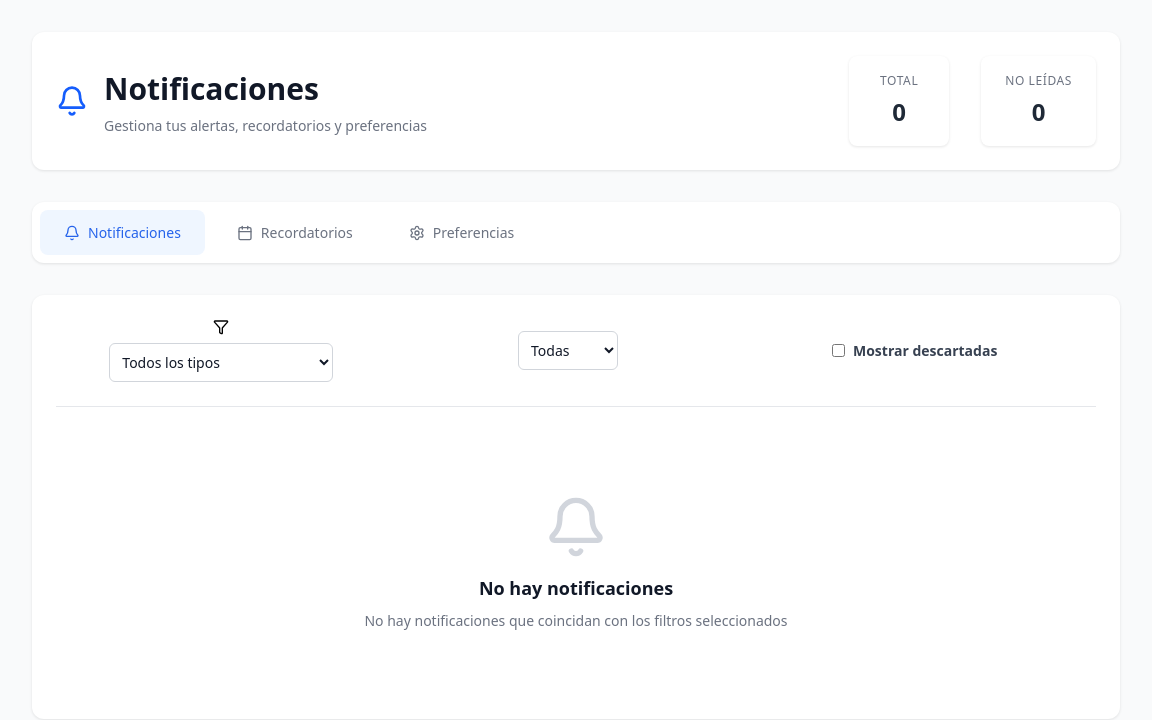
Test: Notifications Page › debe mostrar recordatorios pendientes y enviados
This screenshot has width=1152, height=720.
# Cambiar a pestaña de recordatorios
Click the button "Recordatorios" at (295, 232), box [213,210,377,255]
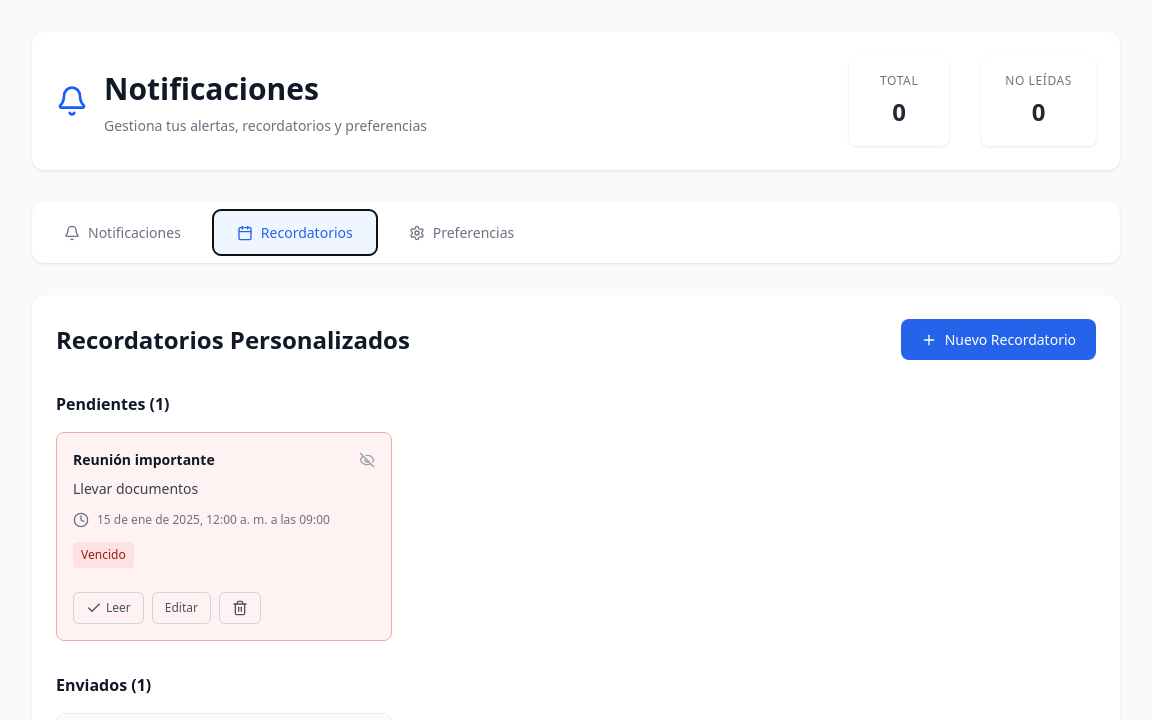
expect the heading "Pendientes (1)" is shown: met, box [56,393,170,415]
expect the heading "Enviados (1)" is shown: met, box [56,674,151,696]
